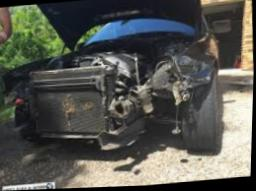Bumper: (100, 100, 185, 154)
Light: (118, 63, 182, 104)
